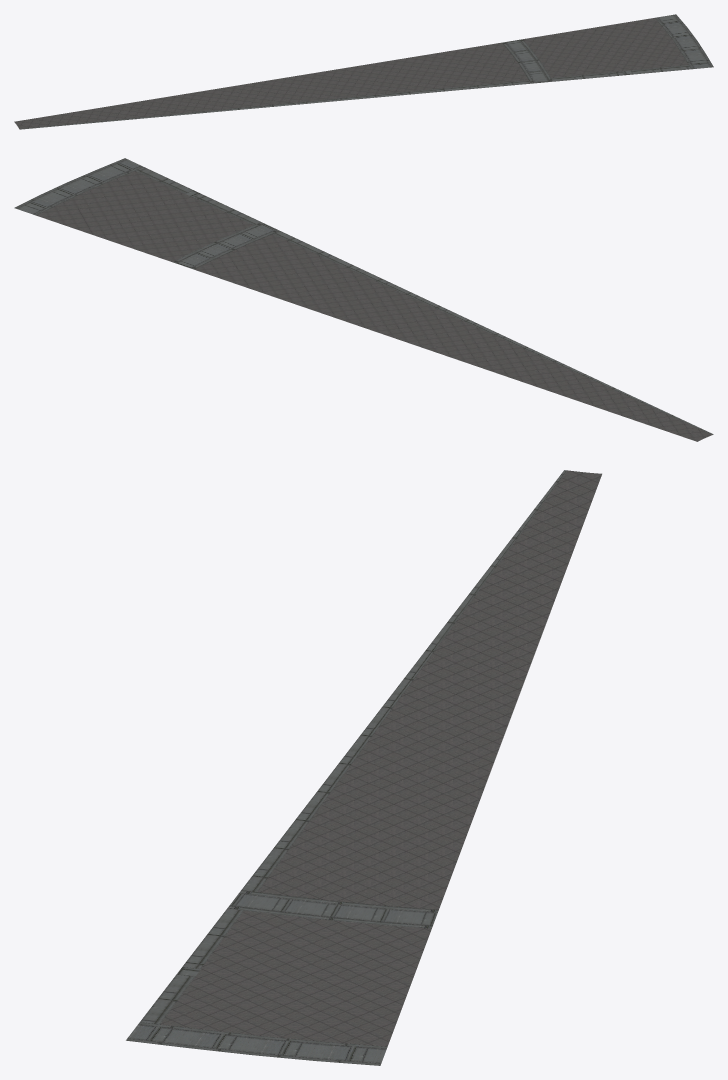
File: Club_DanceFloor_01.FBX
3 renders of one model, top to bottom at view 1: azimuth 30°, elevation 25°; view 2: azimuth 150°, elevation 25°; view 3: azimuth 270°, elevation 25°, orthographic. The views are drawn at different scales.
Visible parts, largest first — view 1: Club_DanceFloor_01; view 2: Club_DanceFloor_01; view 3: Club_DanceFloor_01.
Boxes of the visible parts, x1=… form: Club_DanceFloor_01: x1=14, y1=14, x2=713, y2=129; Club_DanceFloor_01: x1=14, y1=158, x2=713, y2=441; Club_DanceFloor_01: x1=126, y1=470, x2=601, y2=1065.
Size of the model in its own units: 40.3 by 3.89e-15 by 13.63.
